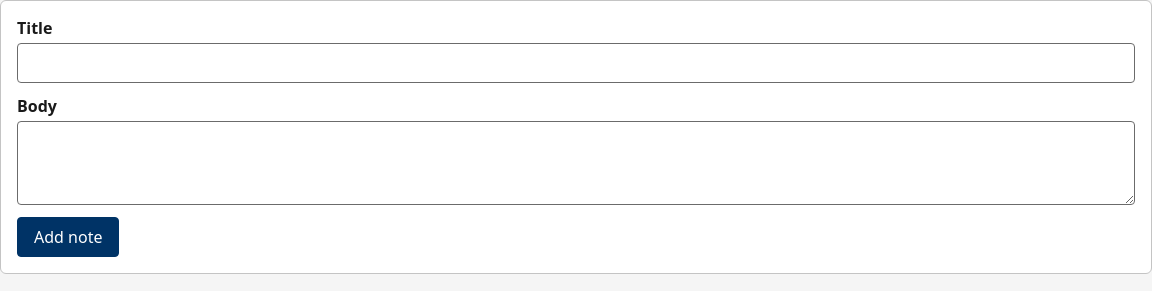
Test: NoteForm › clears the fields after a new note is submitted
In the field labelled "Title": (576, 63) x1=17 y1=43 x2=1135 y2=83, type "Milk"
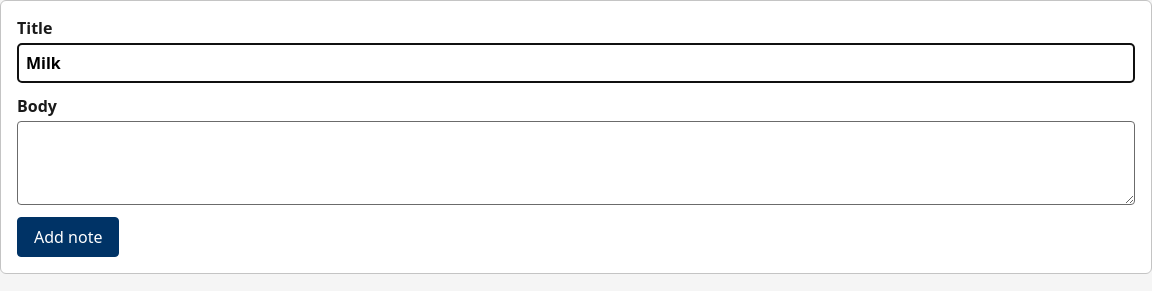
In the text box labelled "Body": (576, 163) x1=17 y1=121 x2=1135 y2=205, type "Two pints"
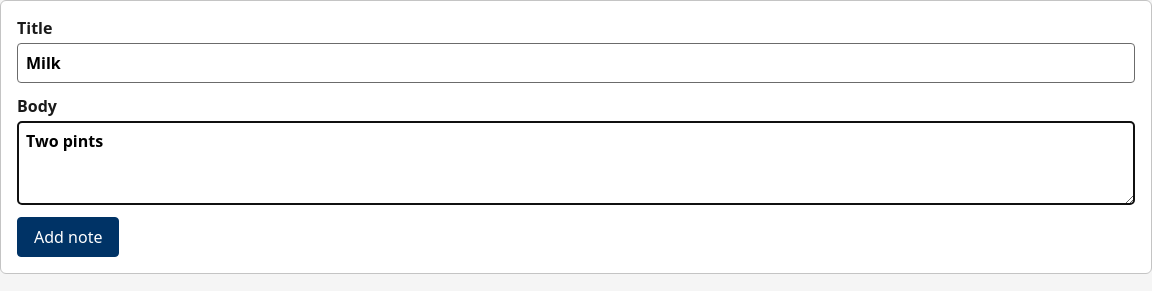
Click the button "Add note": (68, 237) x1=17 y1=217 x2=119 y2=257
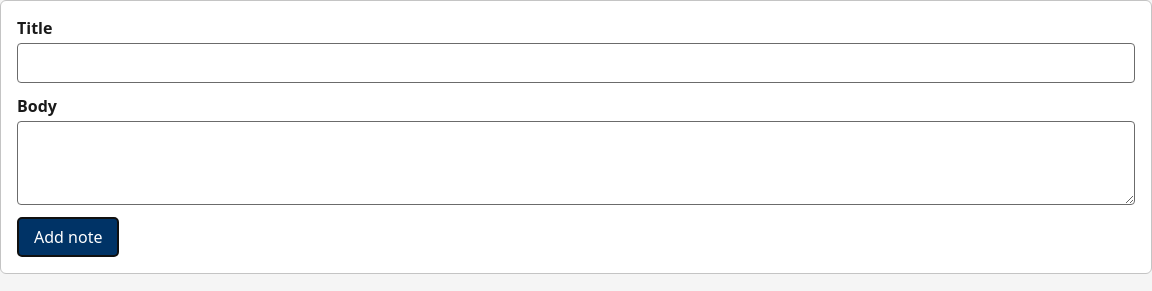
Expected: the field labelled "Title" is empty, x1=17 y1=43 x2=1135 y2=83
Expected: the text box labelled "Body" is empty, x1=17 y1=121 x2=1135 y2=205
